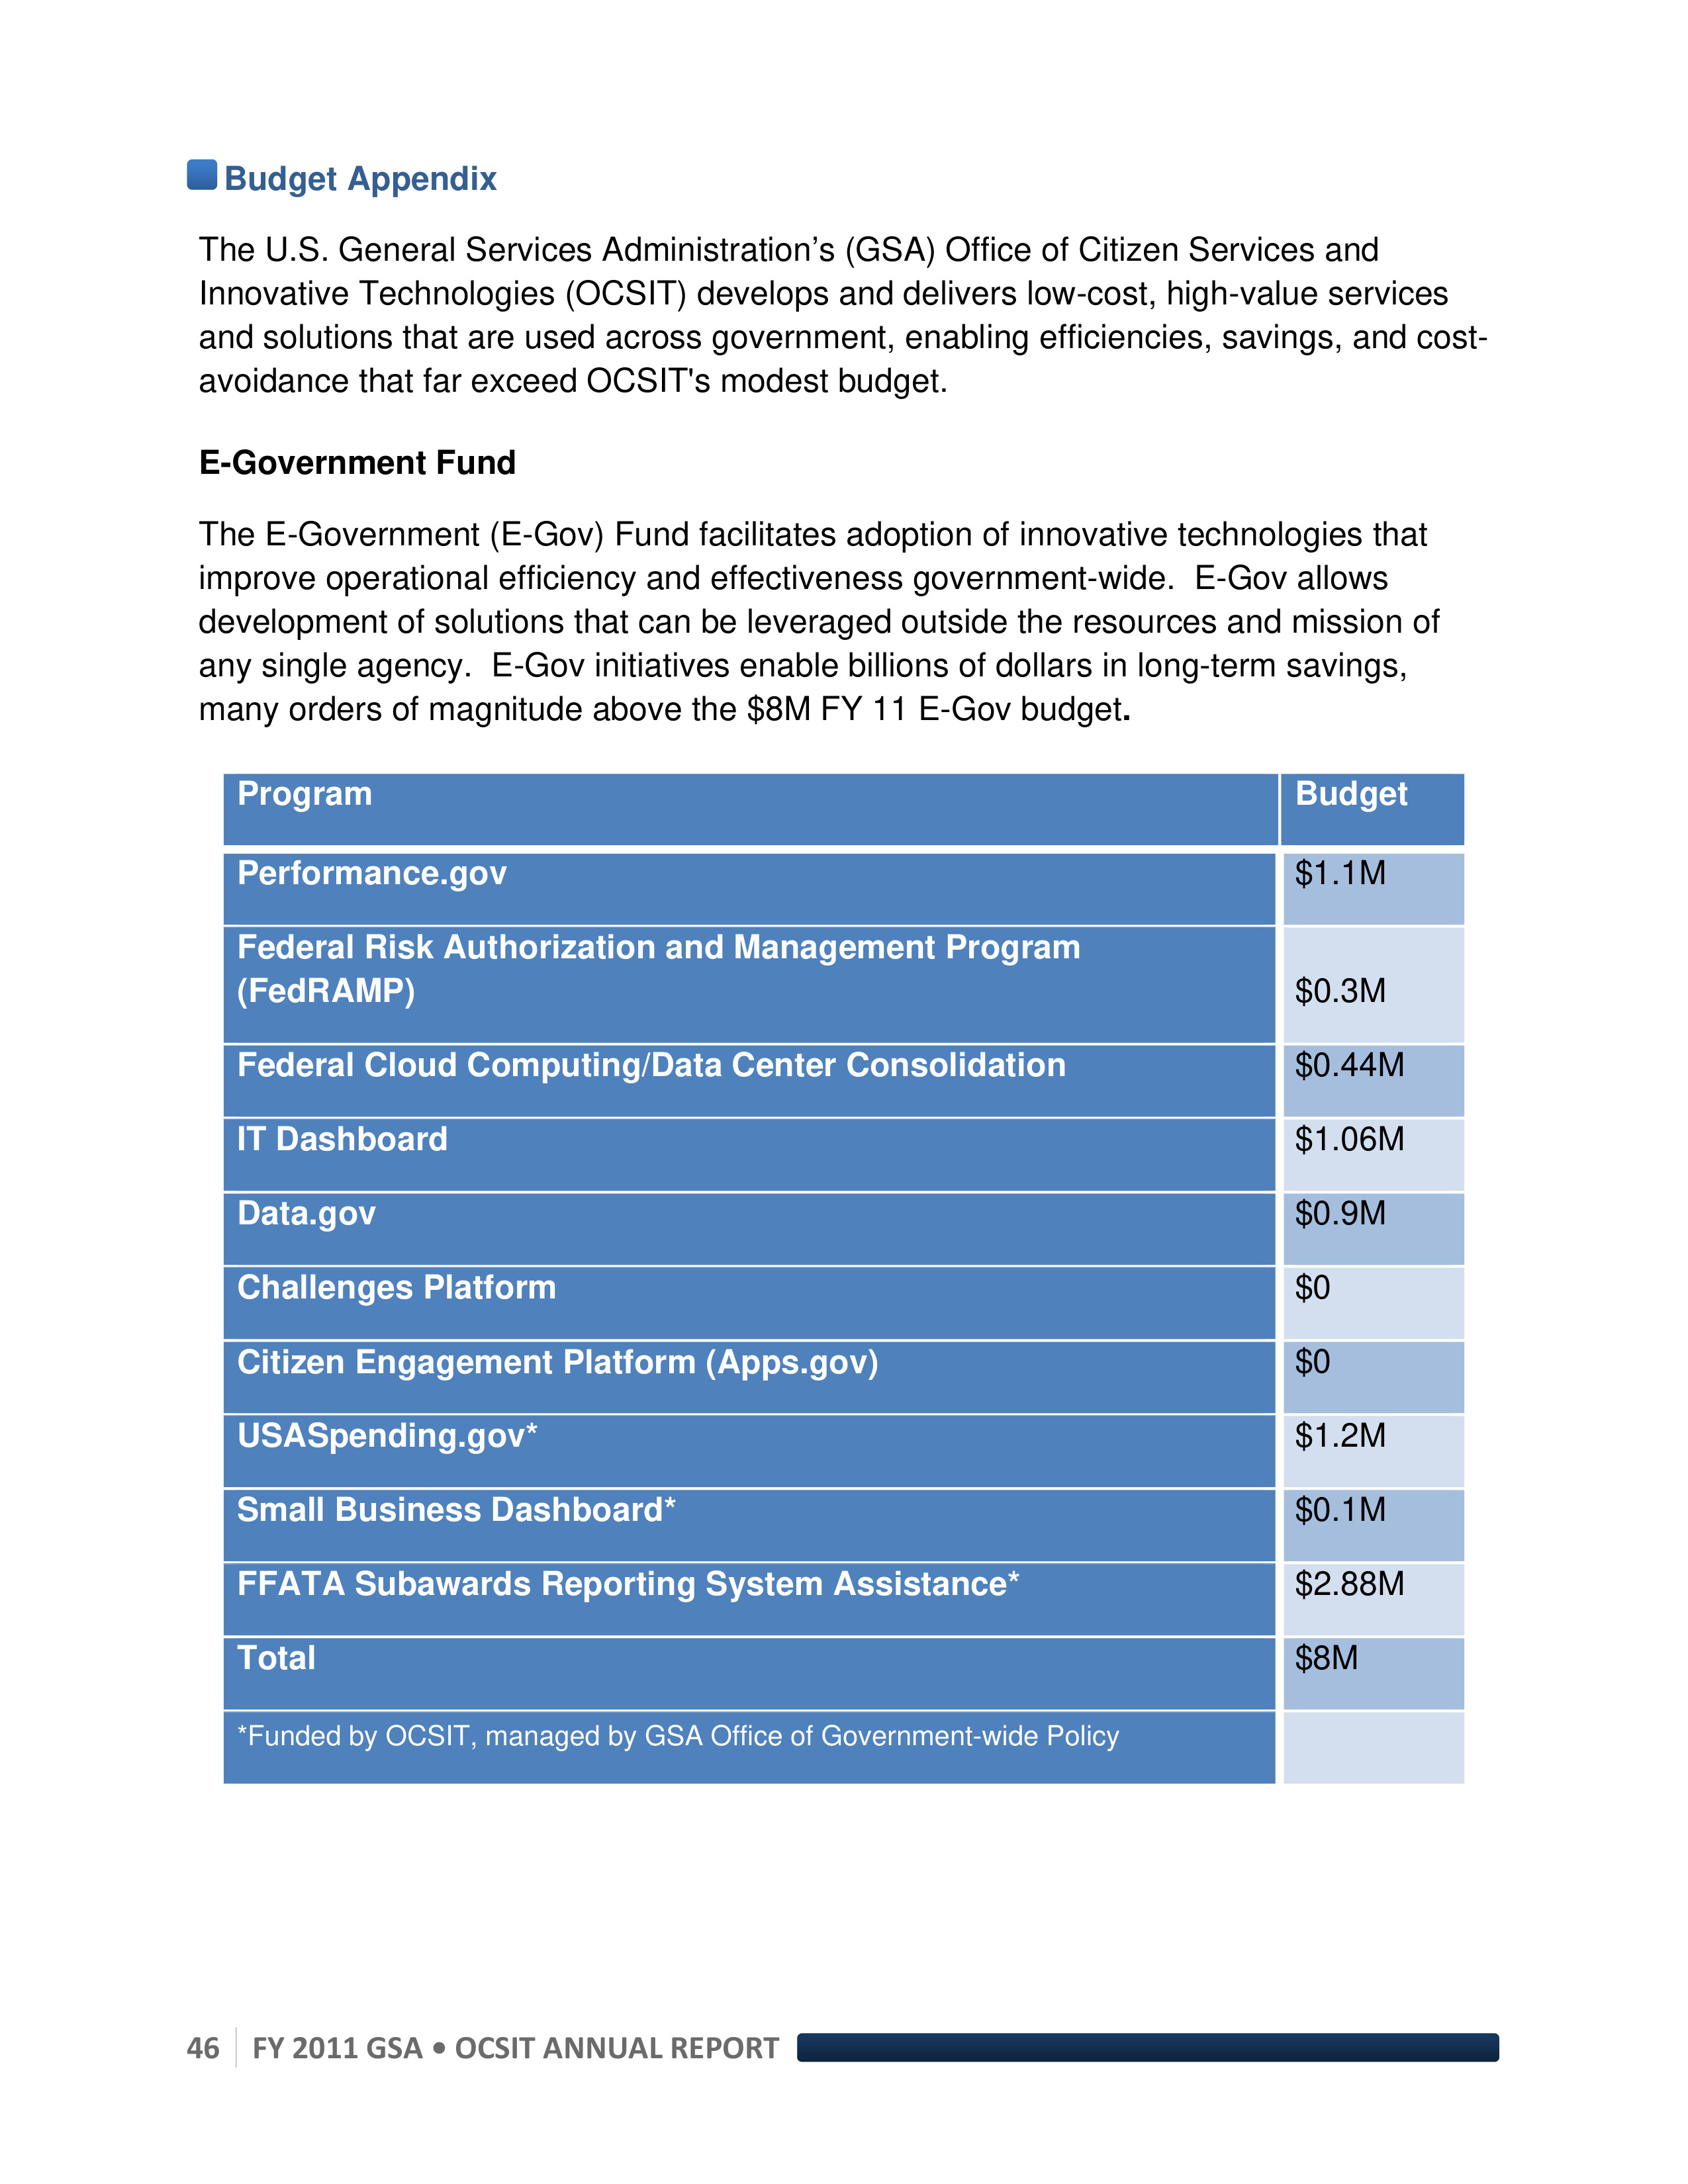table: (236, 769, 1408, 1679)
